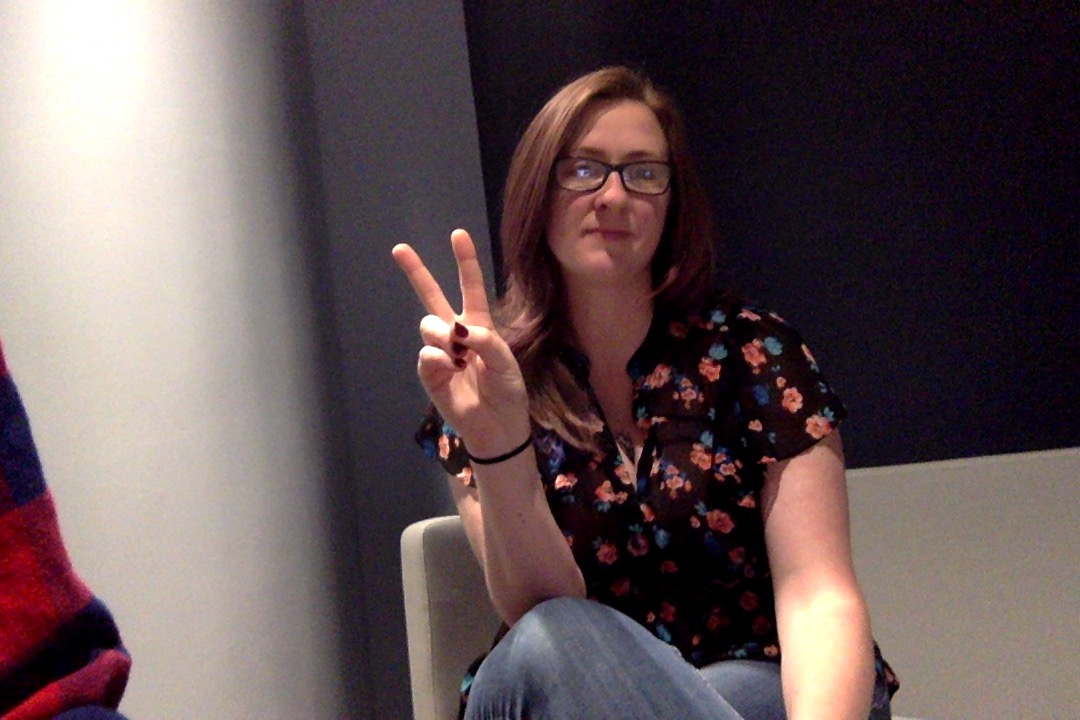v: (384, 223, 548, 484)
